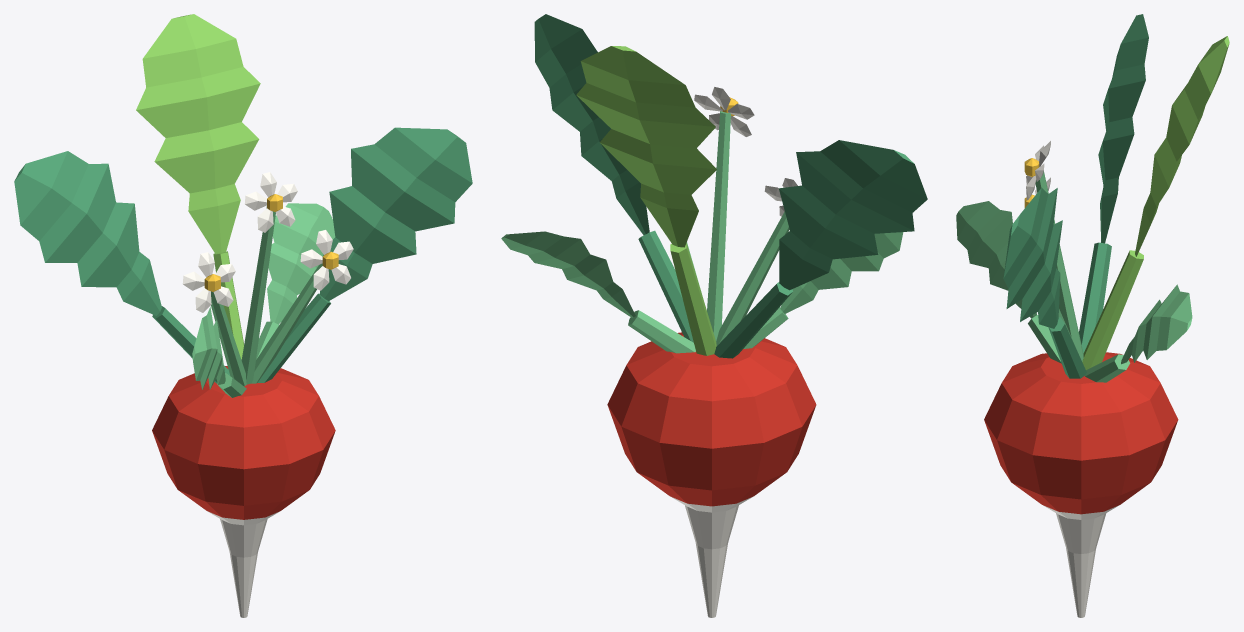
The model's file is 01-radish.glb.
3 renders of one model, left to right at view 1: azimuth 30°, elevation 25°; view 2: azimuth 150°, elevation 25°; view 3: azimuth 270°, elevation 25°, orthographic. The views are drawn at different scales.
Parts seen in each view (by area): view 1: 01-radish_Body; view 2: 01-radish_Body; view 3: 01-radish_Body.
Boxes of the visible parts, <box> form: 01-radish_Body: <box>14,14,472,617</box>; 01-radish_Body: <box>501,14,927,617</box>; 01-radish_Body: <box>956,14,1229,617</box>.
Size of the model in its own units: 0.3515 by 0.462 by 0.1975.
1 material, 1 textured.
